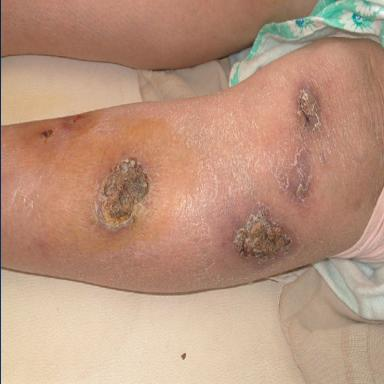Leishmanios: (95, 157, 152, 230), (233, 203, 294, 263), (299, 86, 321, 131)
